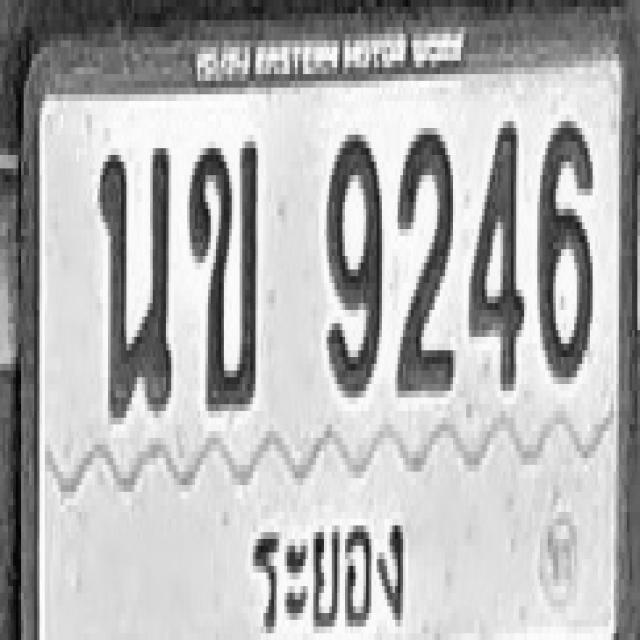11KhorKhai: (187, 138, 258, 408)
2: (395, 125, 453, 394)
34NorNu: (98, 142, 171, 418)
4: (467, 118, 523, 387)
6: (537, 115, 593, 377)
9: (326, 128, 382, 391)
Rayong: (235, 503, 410, 640)
